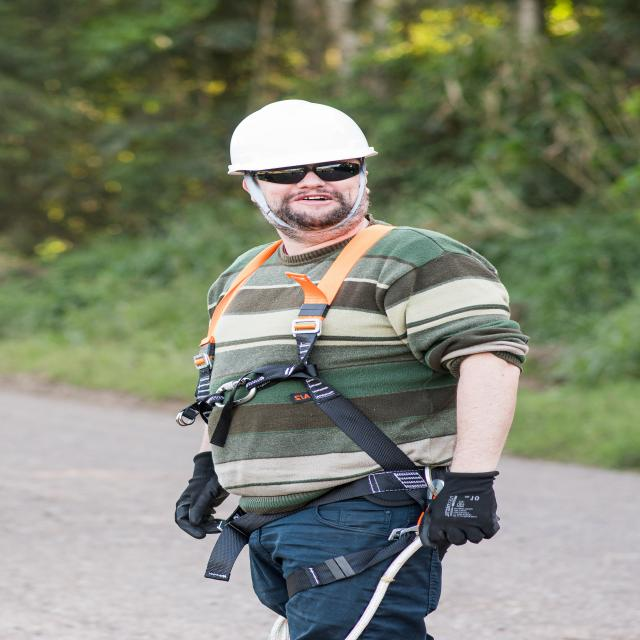capacete: (218, 95, 388, 181)
corda de vida: (174, 217, 460, 623)
luva: (416, 464, 511, 551), (168, 449, 238, 544)
